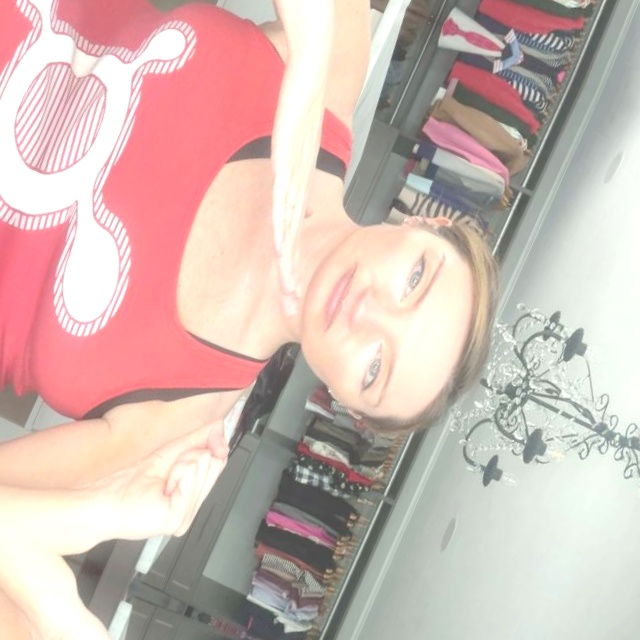Paper: (188, 46, 394, 321)
Rock: (100, 399, 238, 557)
